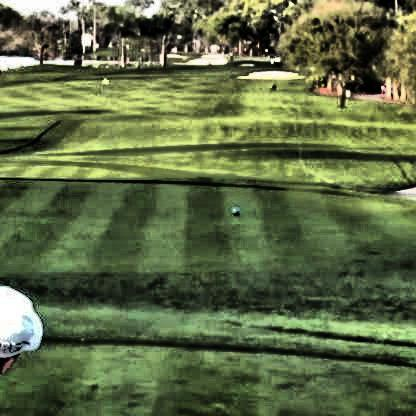golfball: (99, 76, 107, 84)
